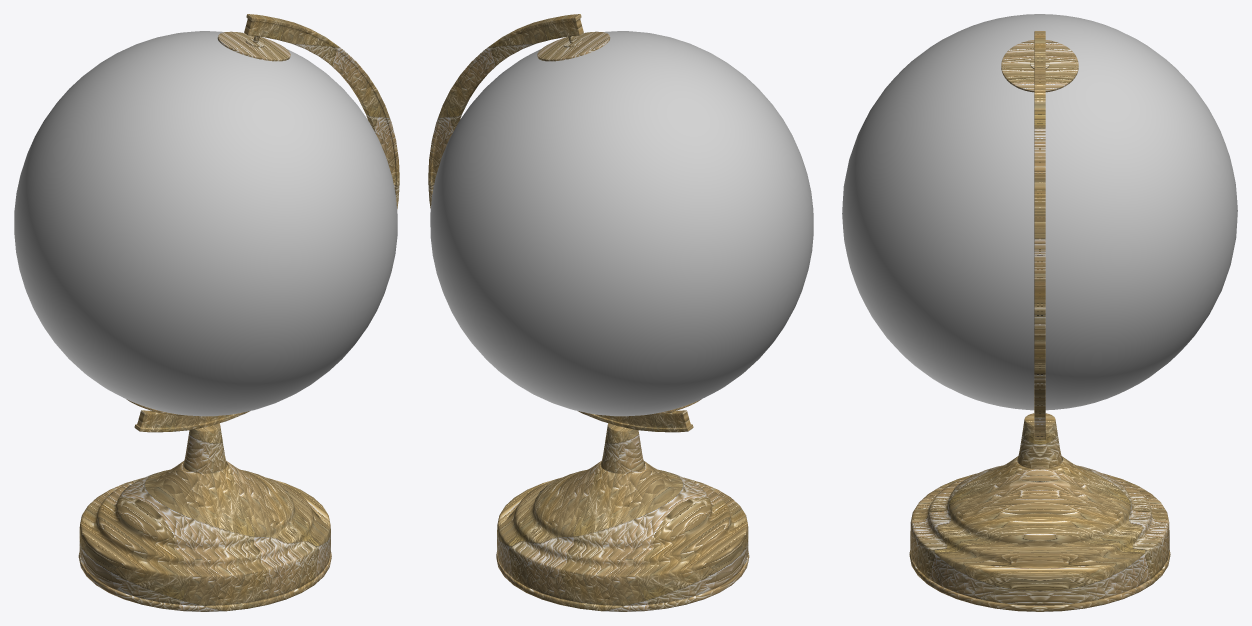
The model's file is globo.obj.
The picture shows the model from 3 angles, left to right: view 1: azimuth 30°, elevation 25°; view 2: azimuth 150°, elevation 25°; view 3: azimuth 270°, elevation 25°; orthographic projection. The views are drawn at different scales.
Parts seen in each view (by area): view 1: globe.002, globe.001; view 2: globe.002, globe.001; view 3: globe.002, globe.001.
Boxes of the visible parts, x1,y1,x2,y2 form: globe.002: [14, 31, 397, 416]; globe.001: [78, 14, 399, 611]; globe.002: [430, 31, 813, 416]; globe.001: [428, 14, 749, 611]; globe.002: [842, 14, 1237, 410]; globe.001: [909, 31, 1170, 611].
Size of the model in its own units: 178 by 253 by 165.
